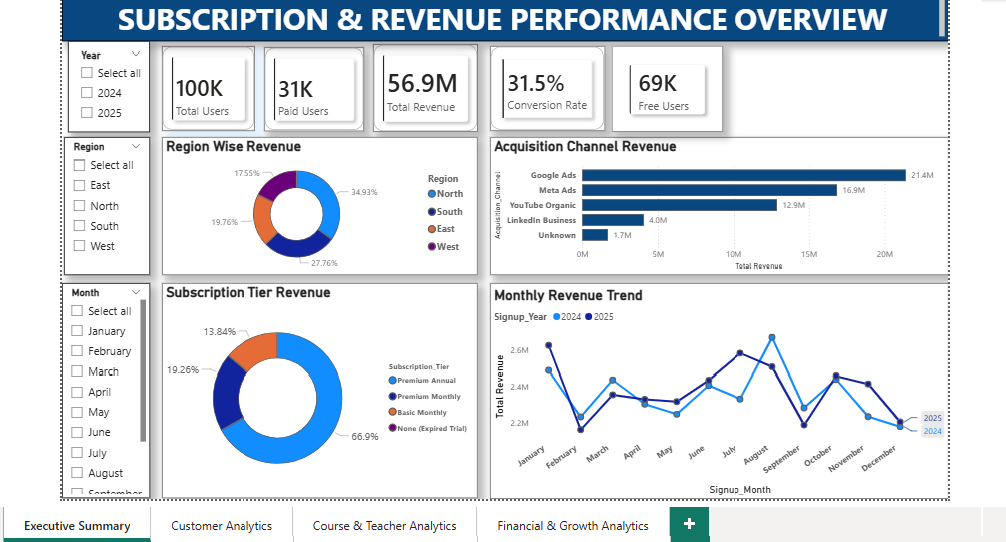

What the dashboard file says about the page in this screenshot:
{"tool":"powerbi","page":{"name":"Executive Summary","canvas":[1280,720],"ordinal":0},"visuals":[{"type":"cardVisual","fields":{"Data":["Subscriptions.Paid Users"]},"box":[292.3,76.3,144,119.5],"z":0},{"type":"cardVisual","fields":{"Data":["Subscriptions.Total Users"]},"box":[144,74.9,135.4,121],"z":1000},{"type":"cardVisual","fields":{"Data":["Subscriptions.Total Revenue"]},"box":[449.3,72,151.2,125.3],"z":2000},{"type":"textbox","box":[0,0,1280,67.9],"z":3000},{"type":"cardVisual","fields":{"Data":["Subscriptions.Conversion Rate"]},"box":[617.8,74.9,165.6,121],"z":4000},{"type":"donutChart","title":" Region Wise Revenue","fields":{"Category":["Subscriptions.Region"],"Y":["Subscriptions.Total Revenue"]},"box":[144,204.5,456.5,195.8],"z":5000},{"type":"clusteredBarChart","title":" Acquisition Channel  Revenue","fields":{"Category":["Subscriptions.Acquisition_Channel"],"Y":["Subscriptions.Total Revenue"]},"box":[617.8,204.5,662.4,195.8],"z":6000},{"type":"lineChart","title":"Monthly Revenue Trend","fields":{"Category":["Subscriptions.Signup_Month"],"Y":["Subscriptions.Total Revenue"],"Series":["Subscriptions.Signup_Year"]},"box":[617.8,411.8,662.4,308.2],"z":7000},{"type":"donutChart","title":" Subscription Tier  Revenue ","fields":{"Category":["Subscriptions.Subscription_Tier"],"Y":["Subscriptions.Total Revenue"]},"box":[144,411.8,456.5,306.7],"z":8000},{"type":"slicer","fields":{"Values":["Subscriptions.Signup_Year"]},"box":[8.6,67.7,118.1,129.6],"z":9000},{"type":"slicer","fields":{"Values":["Subscriptions.Region"]},"box":[2.9,204.5,123.8,195.8],"z":10000},{"type":"slicer","fields":{"Values":["Subscriptions.Signup_Month"]},"box":[0,411.8,126.7,306.7],"z":11000},{"type":"cardVisual","fields":{"Data":["Subscriptions.Unpaid Users"]},"box":[793.4,74.9,159.8,122.4],"z":12000}]}

Visuals, with their boxes on the page's 1280x720 design canvas (x1, y1, x2, y2). These are canvas units, not pixel positions in the 1006x542 screenshot, which may show the page scaled, cropped or inside an application window:
cardVisual - Subscriptions.Paid Users: [292,76,436,196]
cardVisual - Subscriptions.Total Users: [144,75,279,196]
cardVisual - Subscriptions.Total Revenue: [449,72,600,197]
textbox: [0,0,1280,68]
cardVisual - Subscriptions.Conversion Rate: [618,75,783,196]
" Region Wise Revenue" donutChart: [144,204,600,400]
" Acquisition Channel  Revenue" clusteredBarChart: [618,204,1280,400]
"Monthly Revenue Trend" lineChart: [618,412,1280,720]
" Subscription Tier  Revenue " donutChart: [144,412,600,718]
slicer - Subscriptions.Signup_Year: [9,68,127,197]
slicer - Subscriptions.Region: [3,204,127,400]
slicer - Subscriptions.Signup_Month: [0,412,127,718]
cardVisual - Subscriptions.Unpaid Users: [793,75,953,197]
